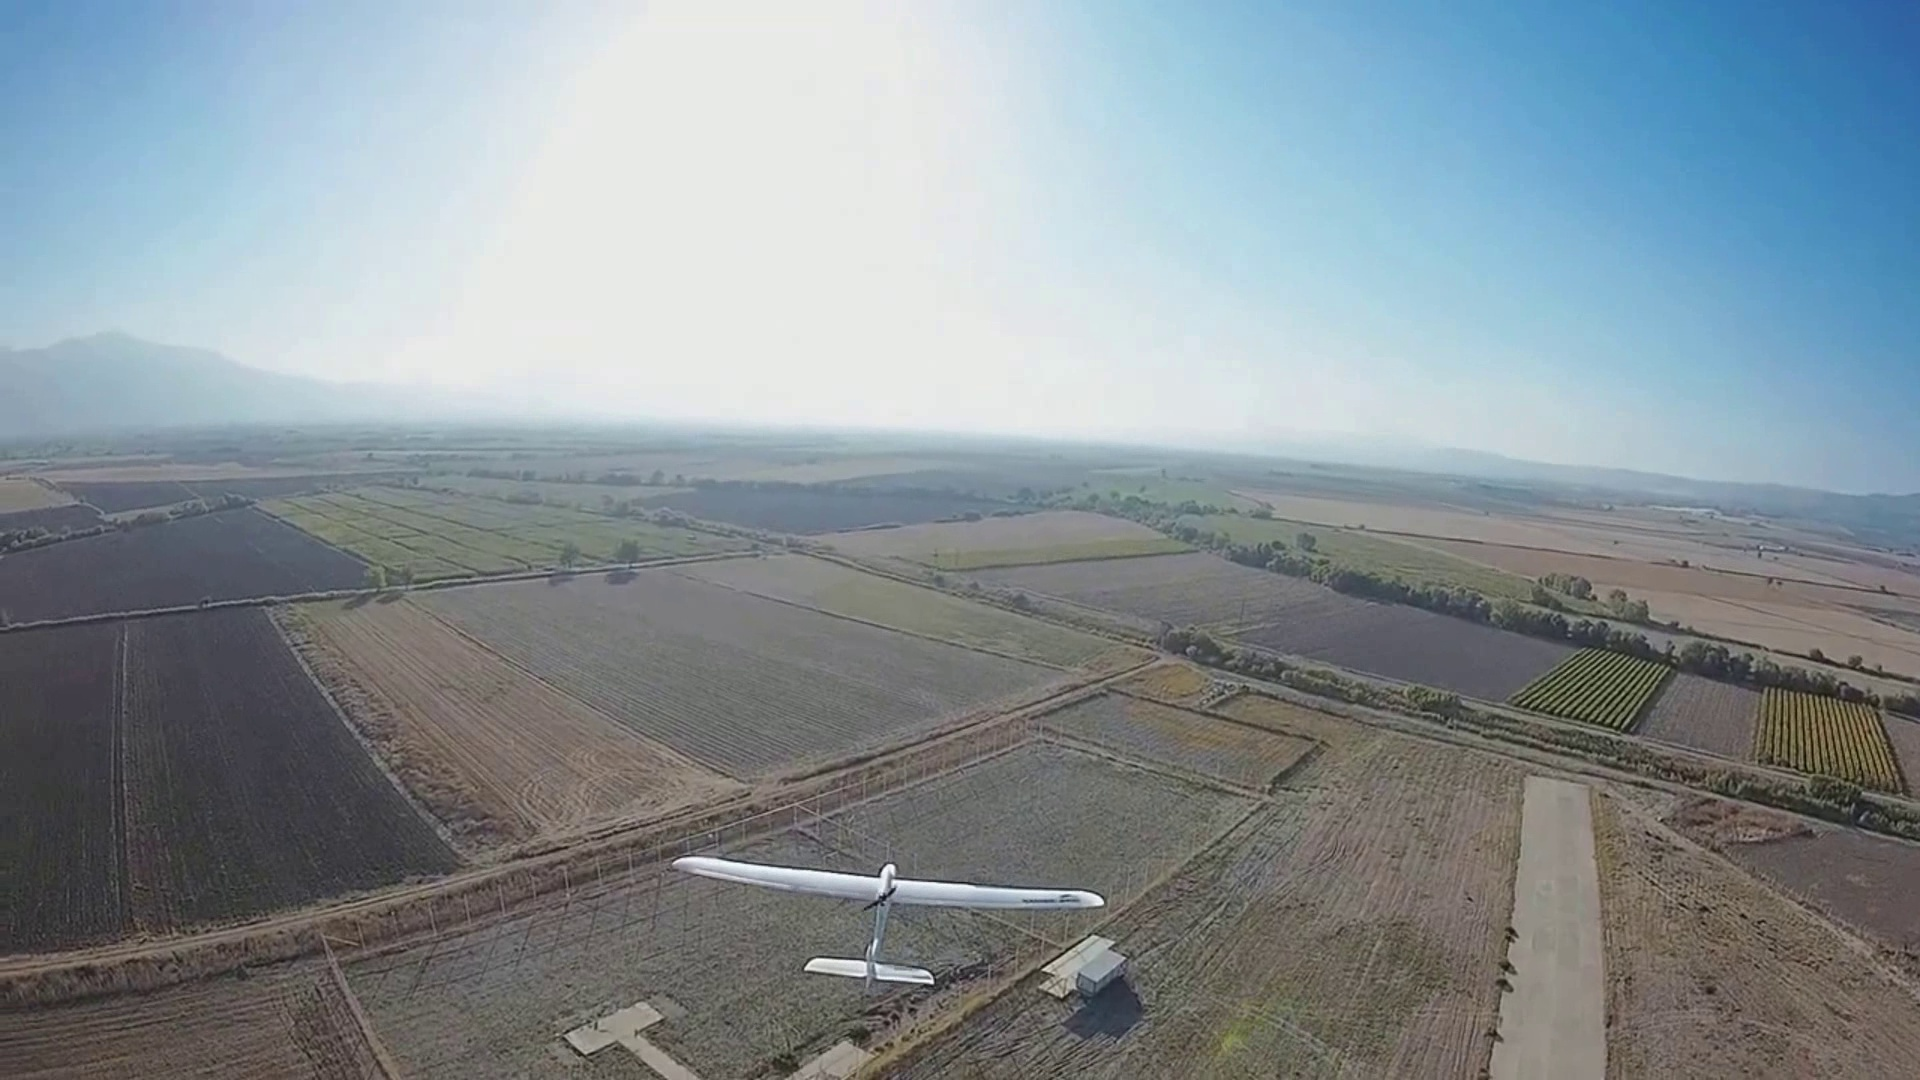airplane: (673, 852, 1139, 1025)
